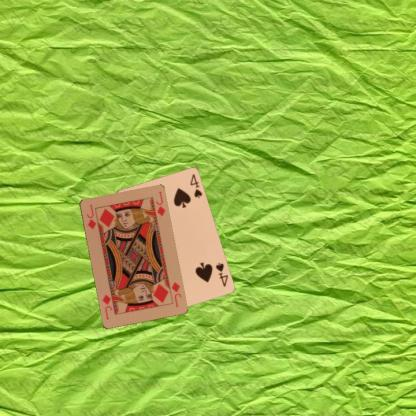4s: (212, 260, 228, 288)
Jd: (168, 279, 182, 308), (84, 202, 97, 231)
